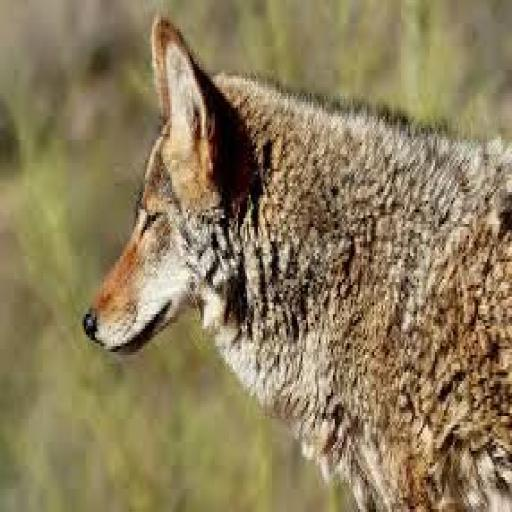wolf: (40, 14, 512, 512)
